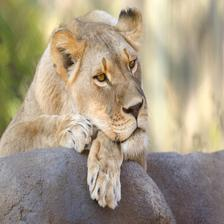Lion: (26, 9, 161, 164)
